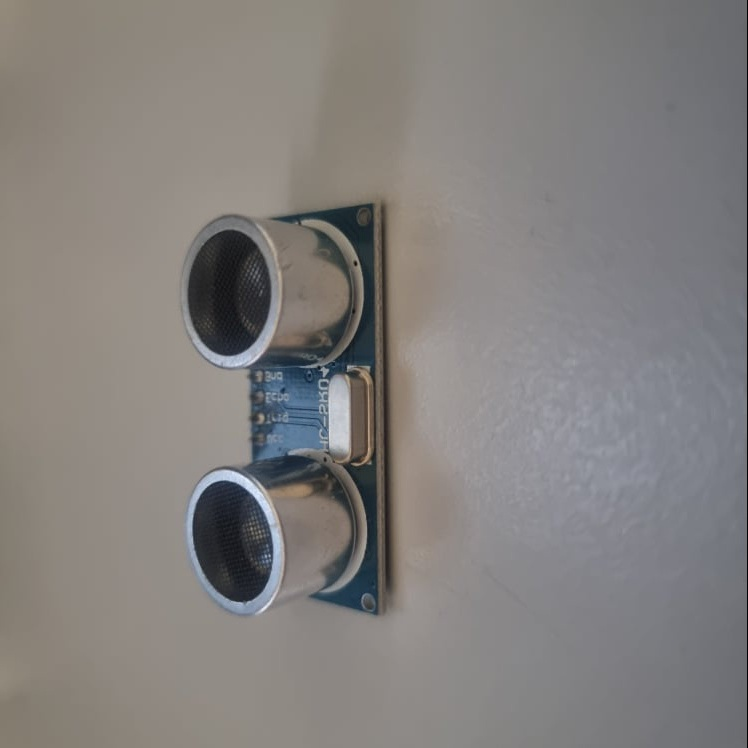SENSOR: (179, 200, 387, 621)
